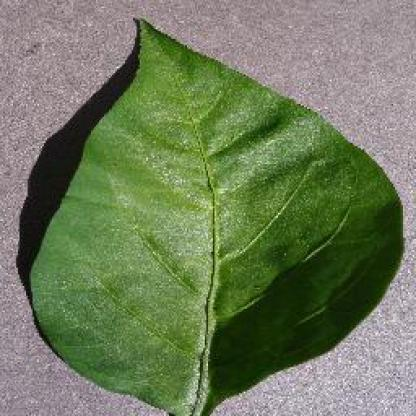good leaf: (31, 0, 414, 415)
